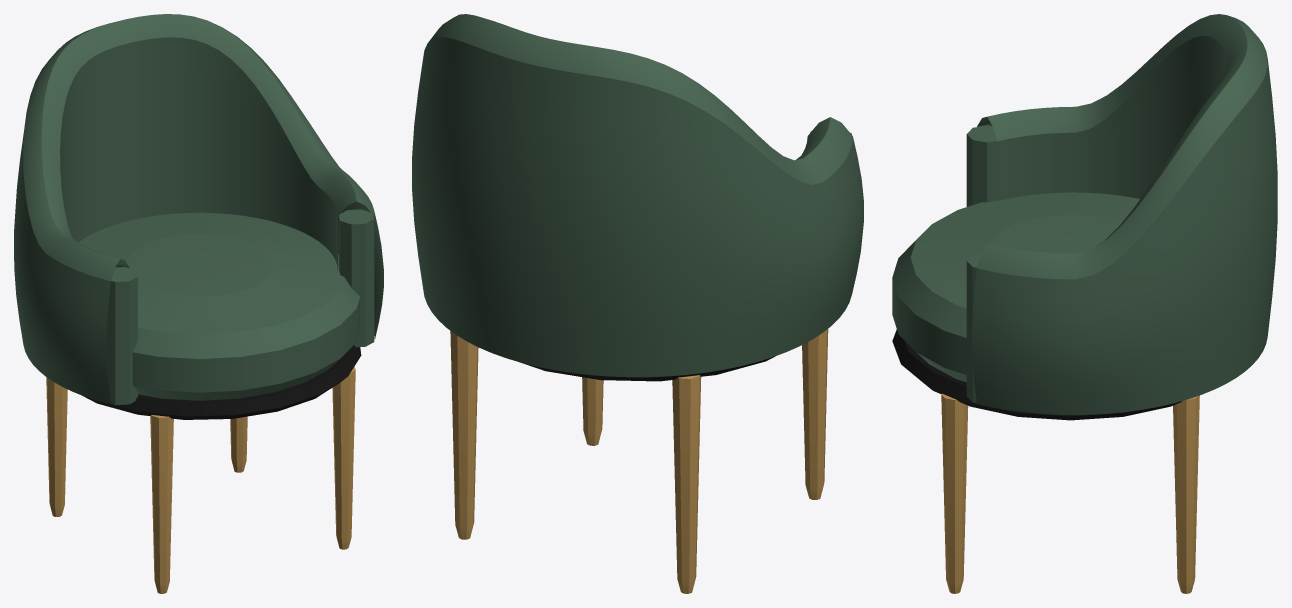
File: tub_sage.glb
The picture shows the model from 3 angles, left to right: view 1: azimuth 30°, elevation 25°; view 2: azimuth 150°, elevation 25°; view 3: azimuth 270°, elevation 25°; orthographic projection. The views are drawn at different scales.
Visible parts, largest first — view 1: tub_sage; view 2: tub_sage; view 3: tub_sage.
Part boxes in pixels (x1,y1,x2,y2): tub_sage: [14, 14, 383, 593]; tub_sage: [412, 14, 863, 593]; tub_sage: [892, 14, 1277, 593].
Size of the model in its own units: 0.5992 by 0.808 by 0.5663.
